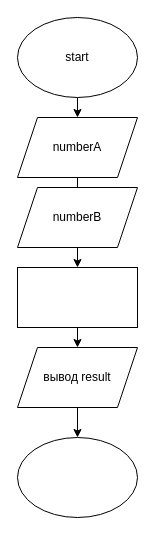
The diagram is 155 pixels wide and 535 high, and some of its shapes have lost their labels. The box of each missing label's shape, as (x1, y1, x2, y2) in pixels:
end: (16, 436, 138, 518)
result = numberA + numberB: (16, 266, 138, 328)
